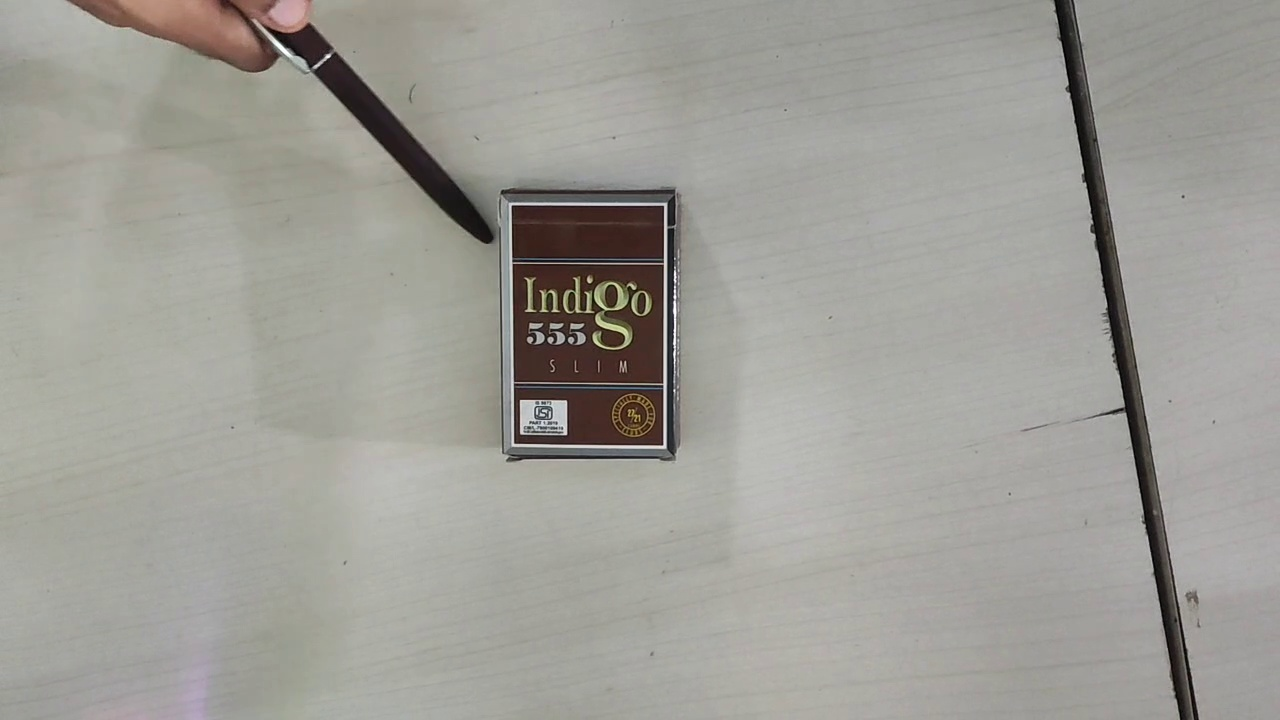BEX: (513, 201, 667, 444)
